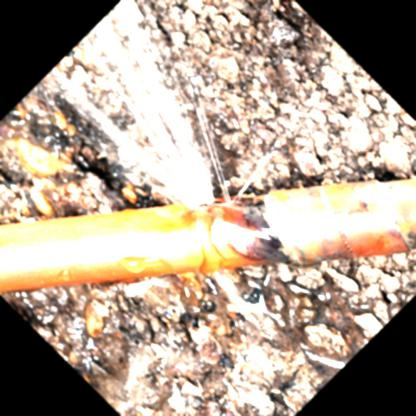burst: (150, 160, 258, 237)
